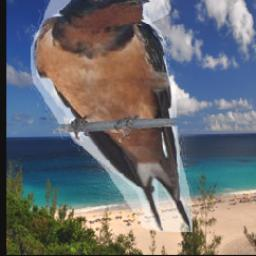Swallow: (32, 0, 194, 233)
